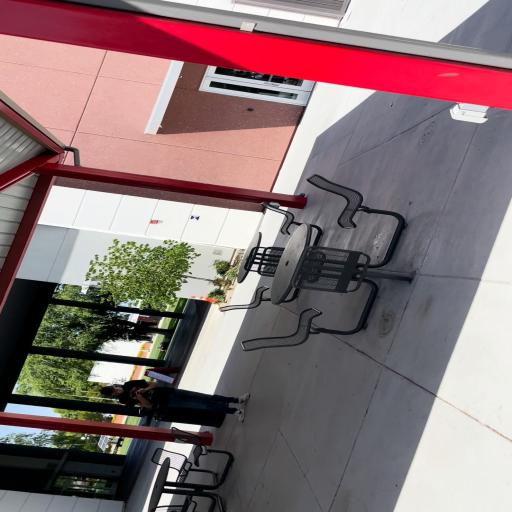target2: (189, 215, 200, 221)
